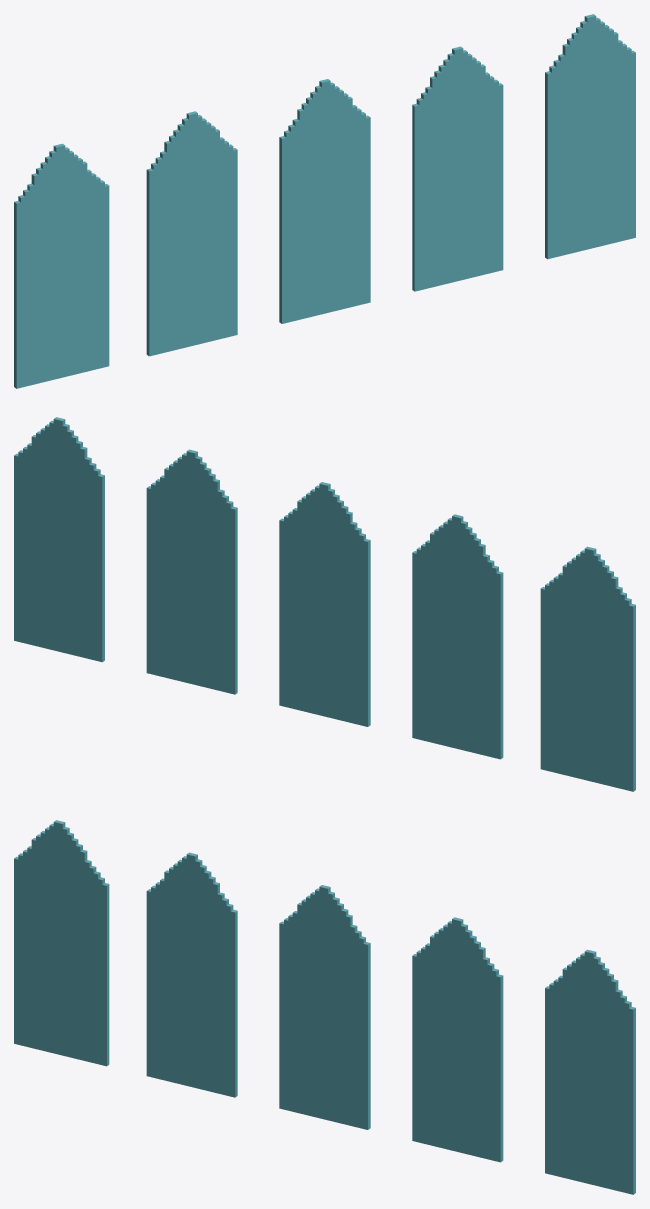
File: Janela Igreja.obj
3 views of the same model, one above another, from view 1: azimuth 30°, elevation 25°; view 2: azimuth 150°, elevation 25°; view 3: azimuth 330°, elevation 25° (orthographic).
Size of the model in its own units: 14 by 5 by 0.1.
1 material, 1 textured.
